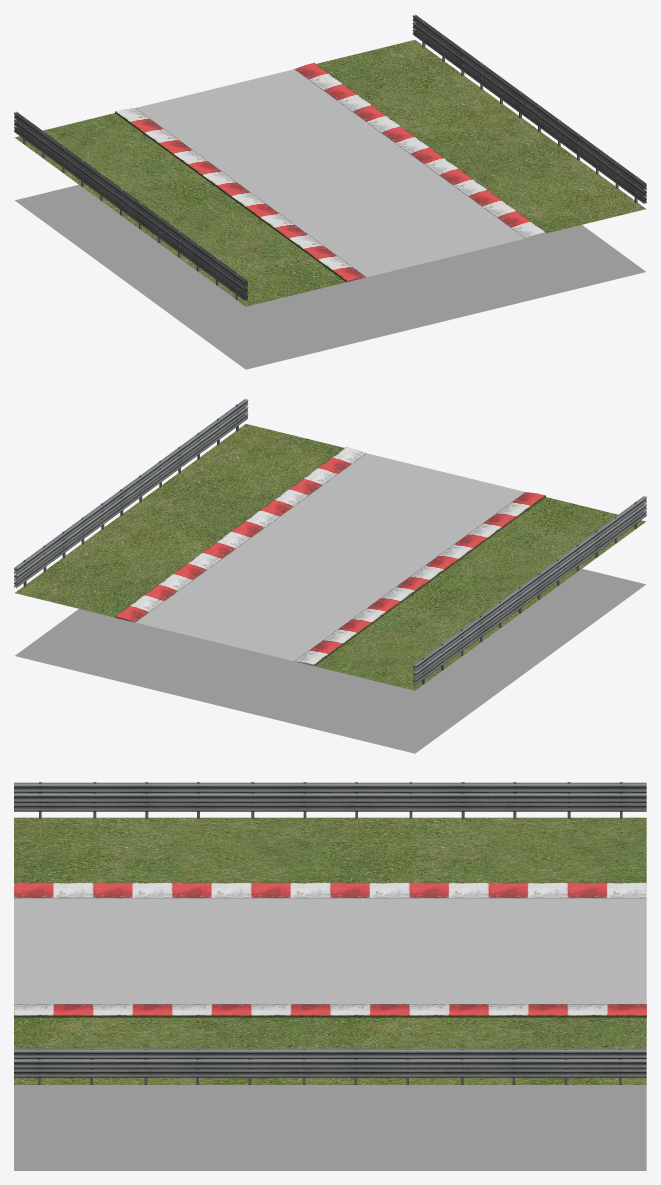
The model's file is Track_Thin_Straight.fbx.
The picture shows the model from 3 angles, top to bottom: view 1: azimuth 30°, elevation 25°; view 2: azimuth 150°, elevation 25°; view 3: azimuth 270°, elevation 25°; orthographic projection. The views are drawn at different scales.
Visible parts, largest first — view 1: Grass, Snap_Plane_Invisible, Road, Rail_A, Rail_B, Curb_B, Curb_A; view 2: Grass, Snap_Plane_Invisible, Road, Rail_A, Rail_B, Curb_B, Curb_A; view 3: Road, Grass, Snap_Plane_Invisible, Rail_A, Rail_B, Curb_A, Curb_B.
Boxes of the visible parts, <box> form: Grass: <box>15,40,645,306</box>; Snap_Plane_Invisible: <box>15,184,645,369</box>; Road: <box>136,69,524,276</box>; Rail_A: <box>14,111,248,300</box>; Rail_B: <box>412,14,646,203</box>; Curb_B: <box>294,62,545,238</box>; Curb_A: <box>115,108,366,282</box>; Grass: <box>15,424,645,690</box>; Snap_Plane_Invisible: <box>15,568,645,753</box>; Road: <box>136,453,524,661</box>; Rail_A: <box>412,495,646,684</box>; Rail_B: <box>14,398,248,587</box>; Curb_B: <box>115,447,366,622</box>; Curb_A: <box>294,492,545,666</box>; Road: <box>14,898,646,1003</box>; Grass: <box>14,817,646,1084</box>; Snap_Plane_Invisible: <box>14,1085,646,1170</box>; Rail_A: <box>14,782,646,818</box>; Rail_B: <box>14,1048,646,1084</box>; Curb_A: <box>14,882,646,898</box>; Curb_B: <box>14,1004,646,1017</box>.
Bounding box in the file's own units: 20.05 × 4.24 × 20.01.
